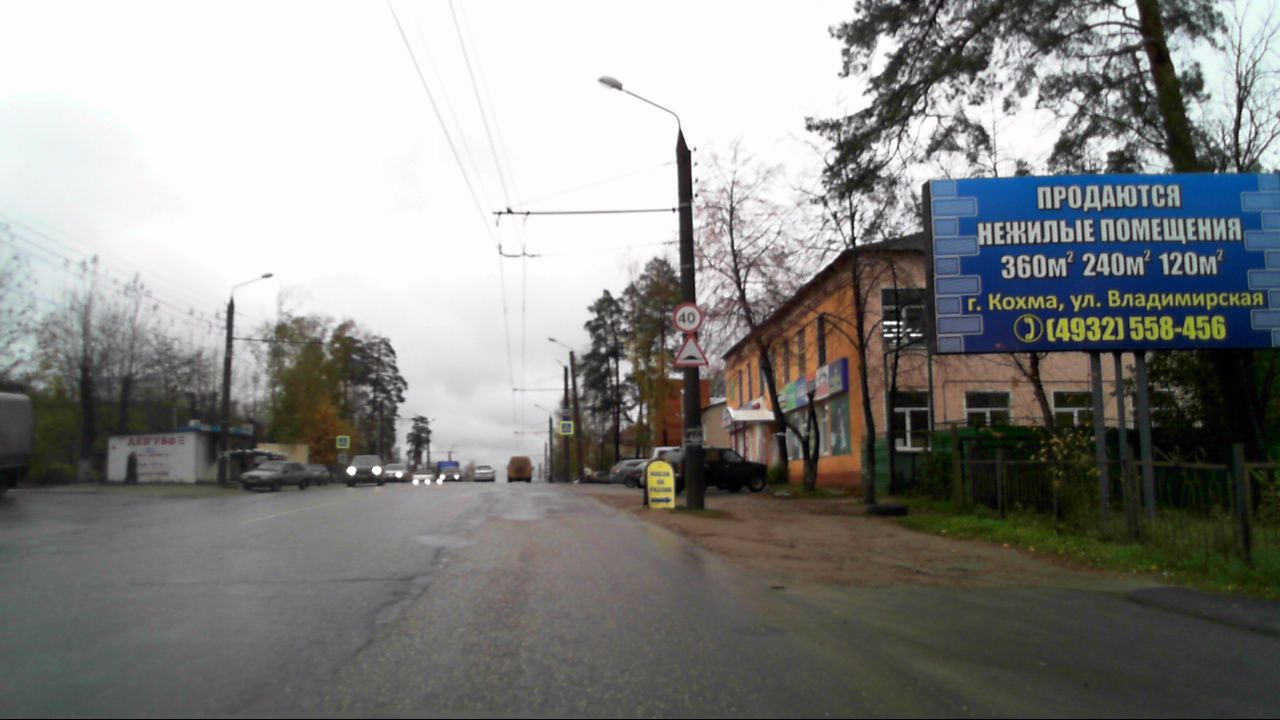speed_warning_40: (672, 301, 703, 334)
